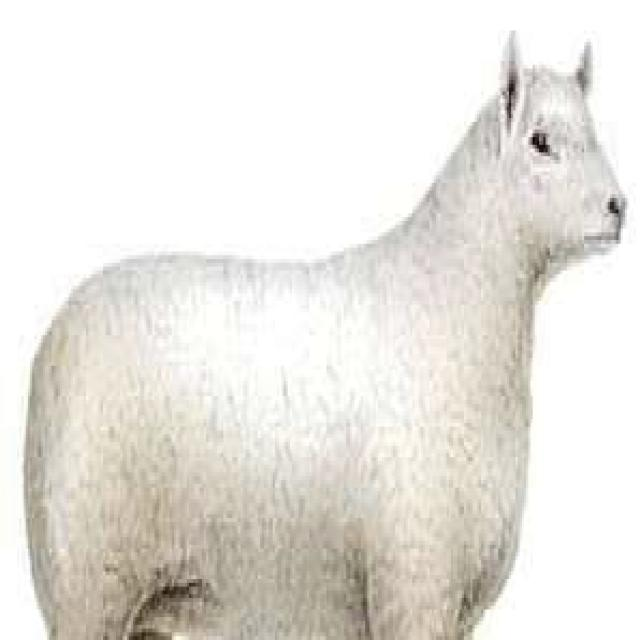sheep: (26, 34, 623, 636)
